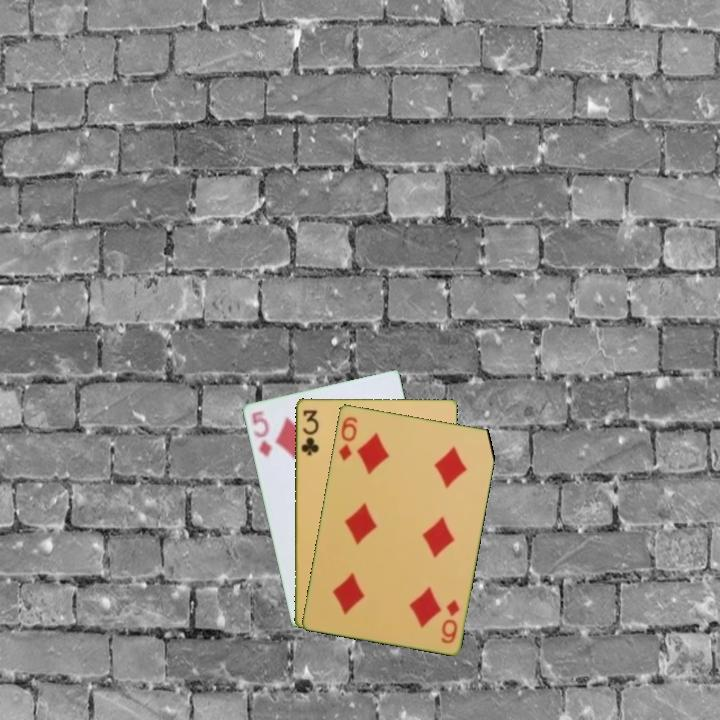3c: (297, 406, 321, 458)
5d: (248, 407, 274, 459)
6d: (335, 413, 360, 463), (437, 596, 462, 646)
